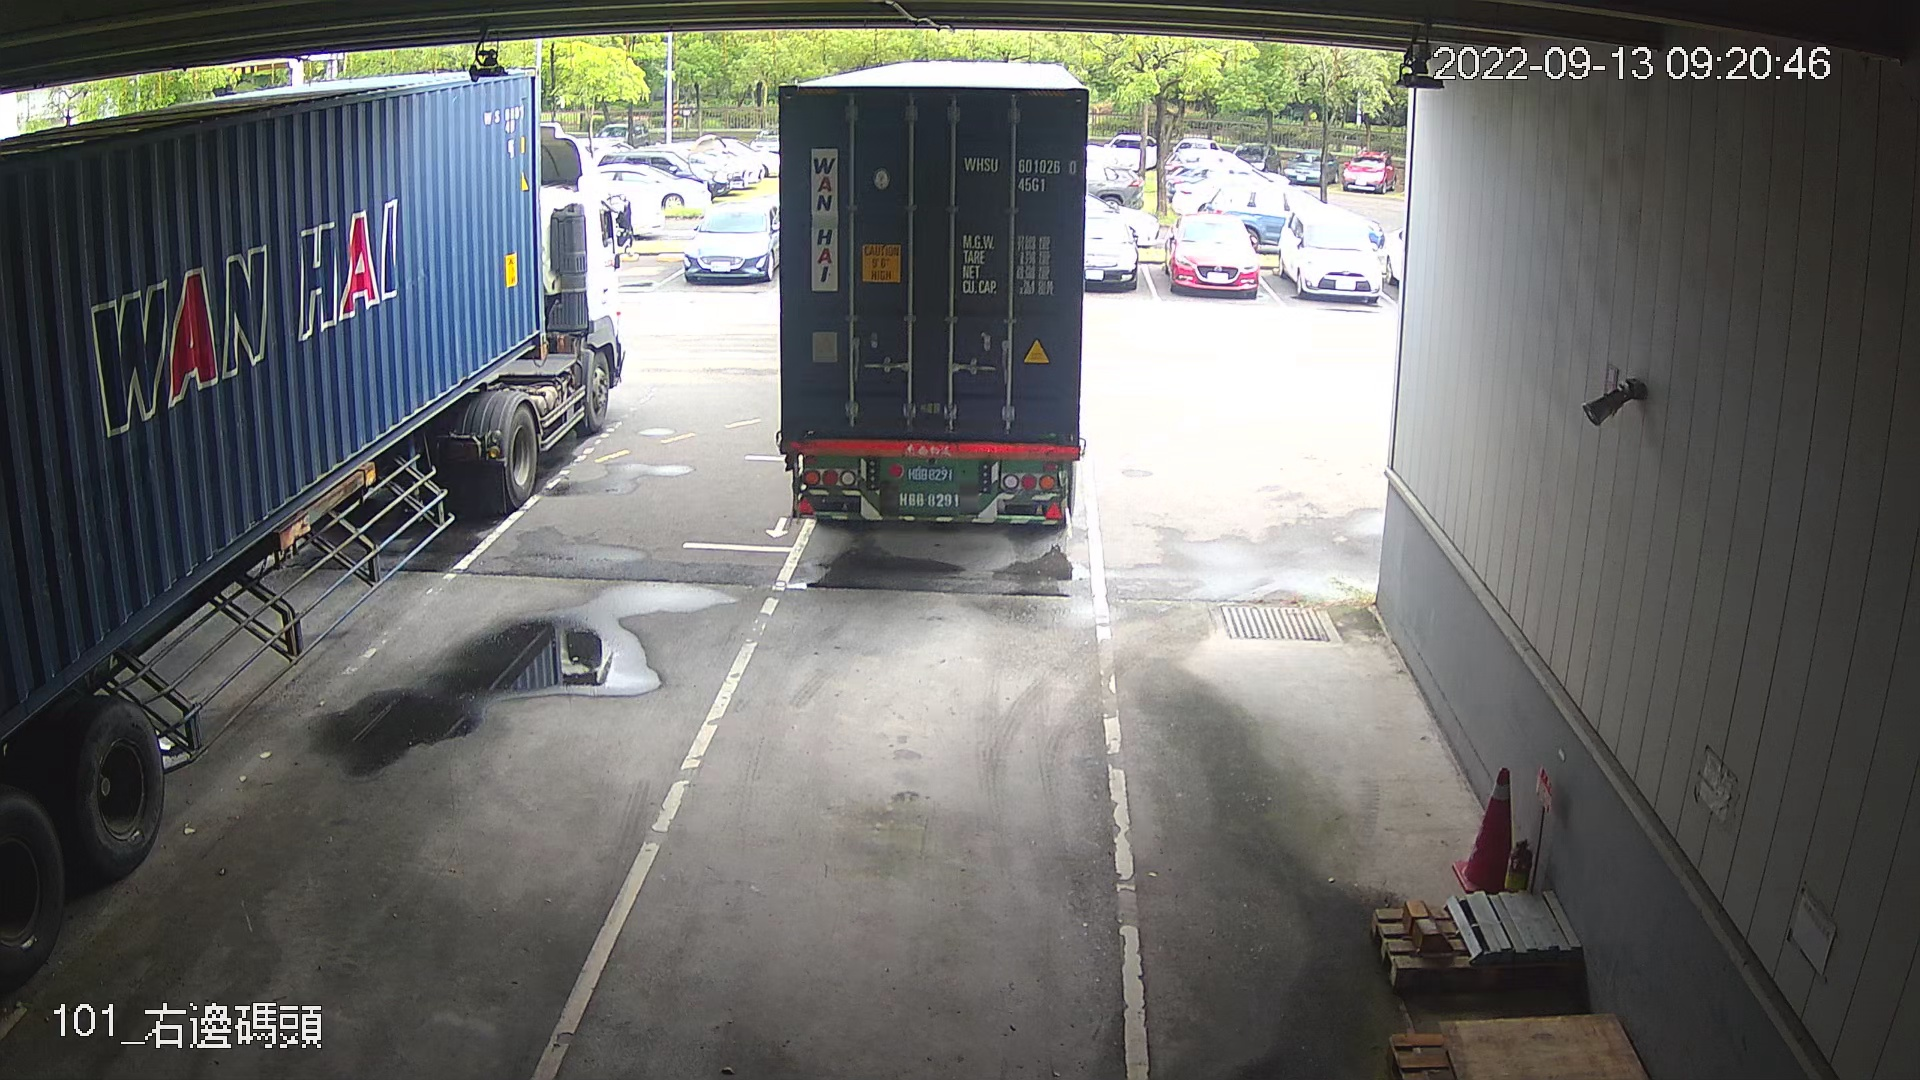container: (959, 145, 1083, 200)
